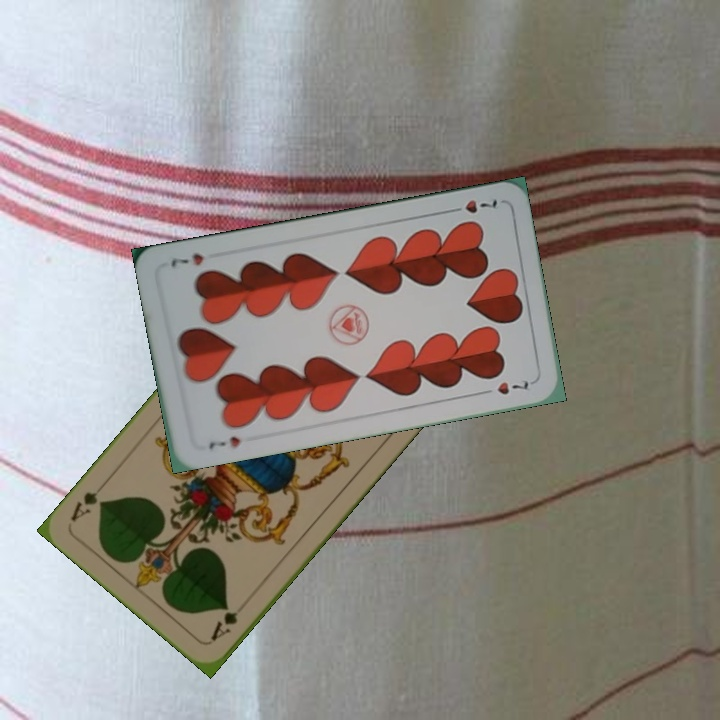GA: (206, 596, 251, 644)
H7: (444, 195, 500, 216), (204, 432, 243, 452)
